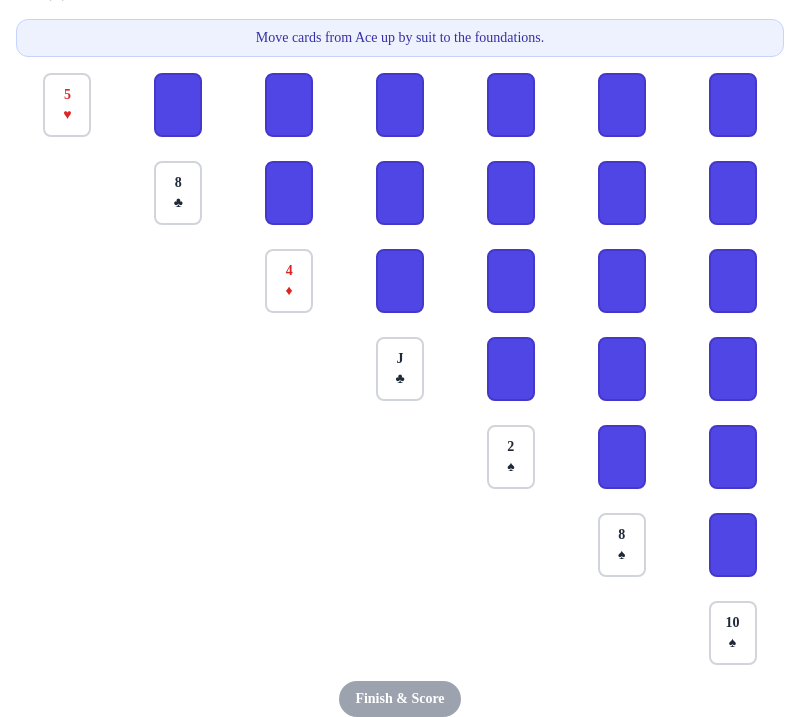
Test: SolitaireGame › reports the number of cards home when finished early
(page scrolled)
Click the button "Finish & Score". click: coordinates (400, 699)
box: [339, 681, 461, 716]
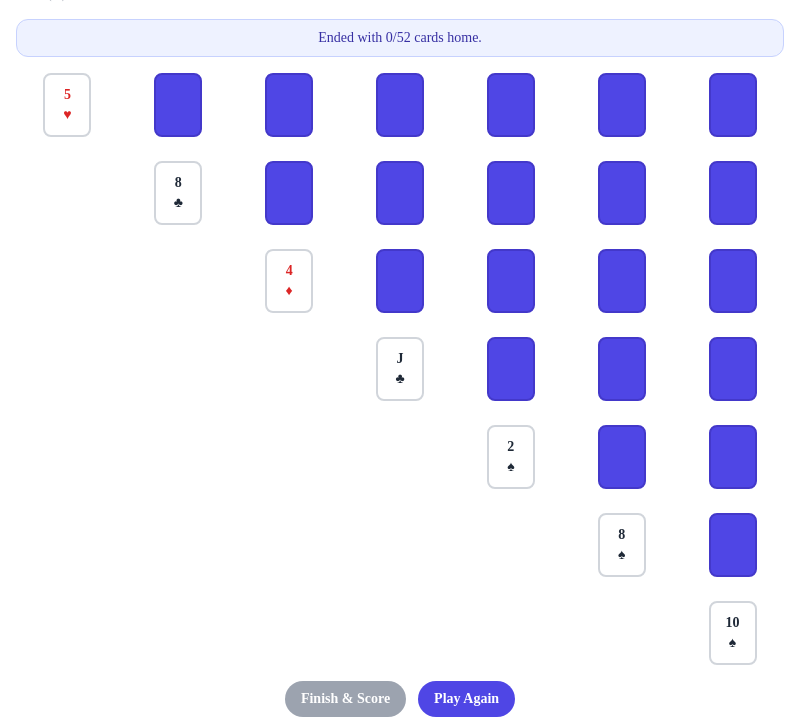
Expected: the button "Play Again" is shown, [418, 681, 515, 716]
